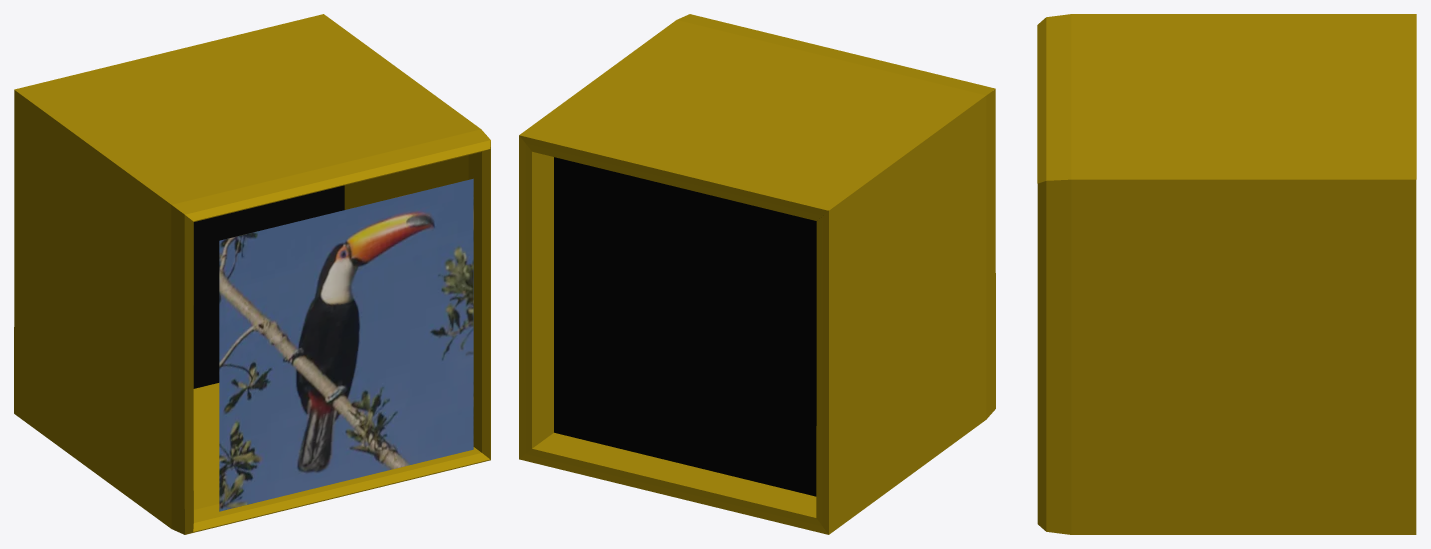
File: sh-contrib-tucan-frame.glb
3 views of the same model, side by side, from view 1: azimuth 30°, elevation 25°; view 2: azimuth 150°, elevation 25°; view 3: azimuth 270°, elevation 25° (orthographic). The views are drawn at different scales.
Parts seen in each view (by area): view 1: WoodFrame_Cylinder_Wood.003, Photo_Cube_Material_Tucan, Frame_Black_Material.015; view 2: WoodFrame_Cylinder_Wood.003, Frame_Black_Material.015; view 3: WoodFrame_Cylinder_Wood.003.
Boxes of the visible parts, left/top/right/bottom form: WoodFrame_Cylinder_Wood.003: left=14, top=14, right=490, bottom=534; Photo_Cube_Material_Tucan: left=219, top=178, right=473, bottom=511; Frame_Black_Material.015: left=193, top=185, right=344, bottom=388; WoodFrame_Cylinder_Wood.003: left=519, top=14, right=995, bottom=534; Frame_Black_Material.015: left=554, top=157, right=816, bottom=496; WoodFrame_Cylinder_Wood.003: left=1037, top=14, right=1416, bottom=534.
Size of the model in its own units: 1 by 1 by 1.
3 materials, 1 textured.
